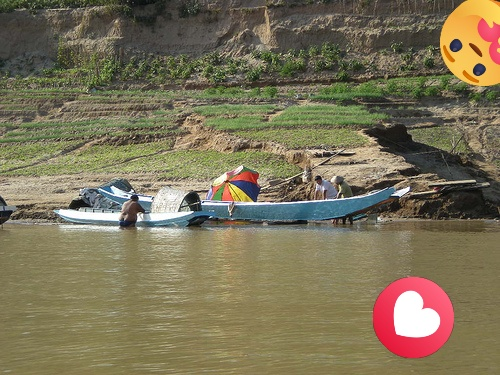care: (440, 0, 500, 86)
love: (373, 277, 454, 358)
